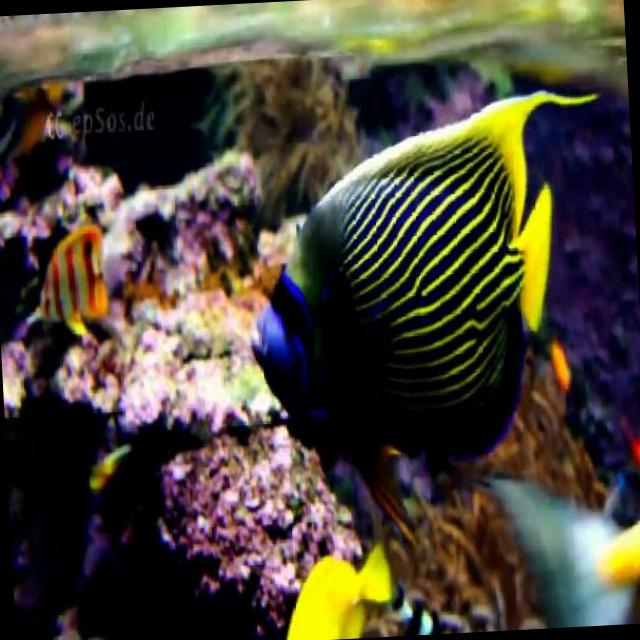AngelFish: (248, 88, 622, 471)
